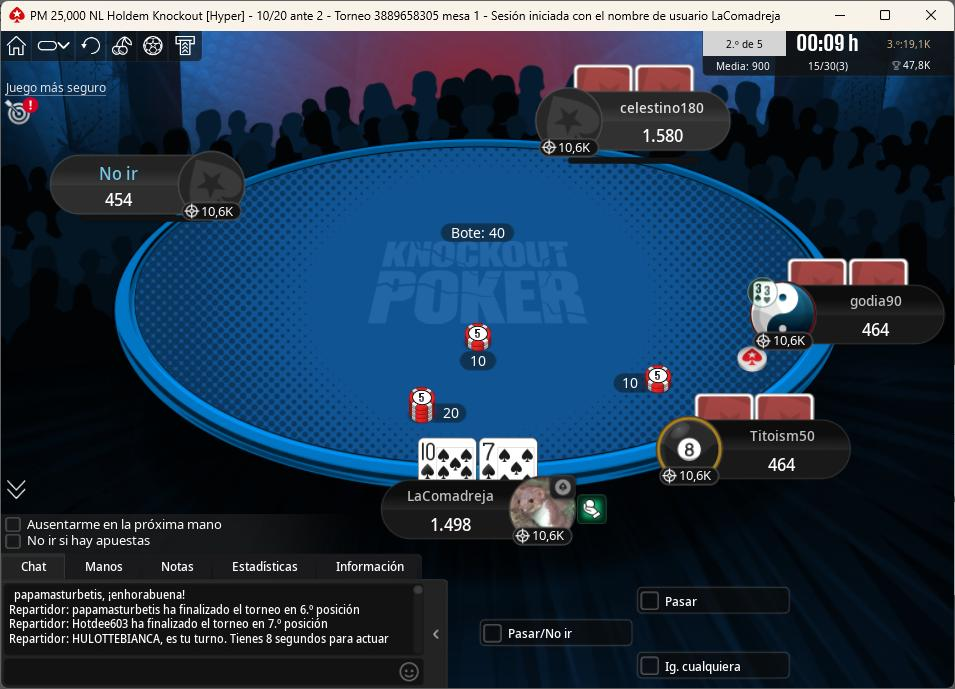HiddenCards: (692, 393, 821, 423), (574, 67, 697, 95), (787, 259, 913, 286)
Player: (748, 283, 952, 351), (543, 90, 734, 160), (50, 151, 248, 218), (657, 421, 857, 487)
PlayerBet: (611, 363, 685, 400)
PlayerChips: (633, 125, 692, 144), (762, 454, 804, 476), (858, 322, 900, 342), (96, 191, 139, 210)
Pot: (438, 223, 518, 244)
PreButtonCallAny: (635, 649, 794, 682)
PreButtonCheck: (635, 583, 797, 618)
PreButtonCheckFold: (477, 616, 637, 649)
PrincipalBet: (406, 387, 474, 427)
PrincipalCards: (413, 438, 543, 483)
PrincipalCards1: (416, 432, 479, 486)
PrincipalCards2: (480, 437, 540, 482)
PrincipalPlayer: (384, 475, 589, 552)
PrincipalPlayerChips: (420, 518, 483, 537)
SmallBigBlind: (249, 2, 333, 28)
TablePot: (456, 322, 525, 380)
